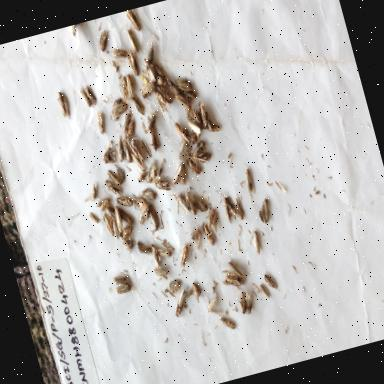pbw: (215, 188, 239, 226), (165, 154, 189, 186), (174, 239, 198, 271), (52, 85, 72, 121), (254, 193, 274, 229), (187, 276, 209, 308), (198, 219, 218, 254), (113, 197, 134, 230), (146, 201, 166, 235), (244, 228, 265, 260), (150, 263, 174, 290), (194, 96, 213, 130), (152, 86, 172, 118), (121, 23, 140, 56), (169, 116, 189, 147), (151, 172, 174, 198), (173, 68, 196, 94), (110, 202, 127, 237), (82, 180, 103, 208), (92, 23, 112, 52), (114, 70, 132, 102), (240, 164, 258, 196), (110, 96, 132, 122), (184, 104, 204, 132), (169, 293, 189, 321), (110, 133, 128, 164), (141, 39, 162, 65), (142, 55, 159, 87), (174, 154, 192, 184), (99, 140, 118, 168), (188, 136, 210, 160), (186, 156, 208, 180), (140, 159, 160, 185), (206, 202, 222, 234), (100, 210, 116, 242), (162, 70, 180, 98), (182, 84, 203, 108), (121, 117, 141, 142), (125, 8, 144, 34), (116, 110, 135, 136), (261, 268, 279, 295), (124, 48, 140, 78), (130, 190, 150, 214), (122, 70, 139, 98), (174, 88, 192, 114), (203, 294, 221, 320), (128, 90, 146, 116), (232, 195, 248, 224), (103, 176, 123, 199), (219, 312, 238, 336), (186, 122, 205, 146), (135, 203, 154, 227), (235, 290, 251, 318), (82, 80, 98, 108), (146, 124, 162, 152), (157, 84, 174, 110), (175, 138, 193, 162), (133, 162, 151, 186), (204, 116, 222, 140), (142, 108, 160, 132), (131, 136, 146, 164), (134, 239, 154, 260), (138, 82, 158, 103), (155, 240, 174, 262), (240, 290, 256, 316), (76, 86, 92, 112), (148, 240, 164, 266), (116, 191, 134, 214), (118, 232, 136, 255), (174, 286, 191, 310), (85, 206, 102, 230), (196, 148, 217, 167), (166, 274, 184, 296), (226, 257, 244, 279), (221, 274, 243, 292), (184, 189, 198, 217), (112, 279, 132, 298), (95, 193, 113, 214), (191, 191, 208, 213), (152, 57, 168, 80), (121, 138, 134, 166), (94, 110, 108, 136), (140, 184, 158, 204), (189, 226, 204, 250), (110, 44, 128, 64), (114, 164, 129, 187), (130, 150, 144, 174), (176, 194, 191, 216), (202, 202, 217, 224), (119, 220, 135, 240), (105, 166, 120, 187), (108, 215, 120, 240), (105, 205, 120, 224), (112, 270, 129, 286), (258, 282, 271, 302), (67, 24, 80, 42), (152, 164, 166, 180)
